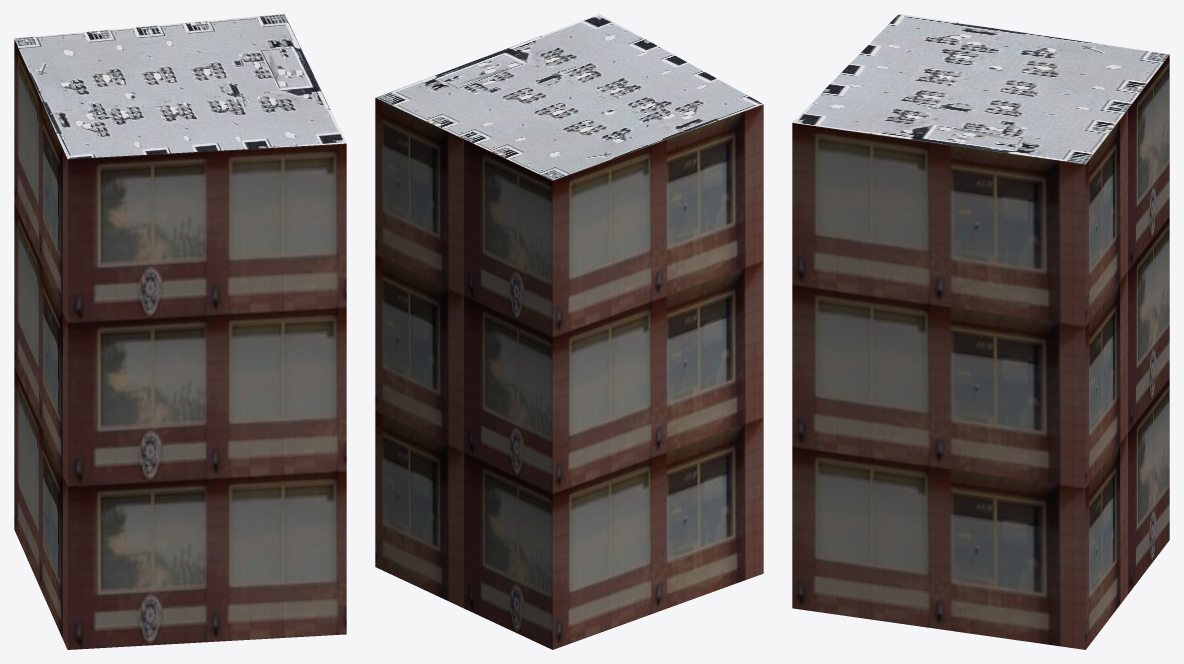
File: ResTex__4191.fbx
The picture shows the model from 3 angles, left to right: view 1: azimuth 30°, elevation 25°; view 2: azimuth 150°, elevation 25°; view 3: azimuth 270°, elevation 25°; orthographic projection. The views are drawn at different scales.
Parts seen in each view (by area): view 1: CityEngineMaterial_13_m, CityEngineMaterial_4_m; view 2: CityEngineMaterial_13_m, CityEngineMaterial_4_m; view 3: CityEngineMaterial_13_m, CityEngineMaterial_4_m.
Boxes of the visible parts, x1,y1,x2,y2 form: CityEngineMaterial_13_m: (14,39,346,649); CityEngineMaterial_4_m: (14,14,346,158); CityEngineMaterial_13_m: (375,98,763,649); CityEngineMaterial_4_m: (376,14,762,180); CityEngineMaterial_13_m: (792,55,1169,649); CityEngineMaterial_4_m: (792,14,1169,164).
Bounding box in the file's own units: 5.98 × 9 × 6.34.
Materials: 2 (2 with a texture image).
